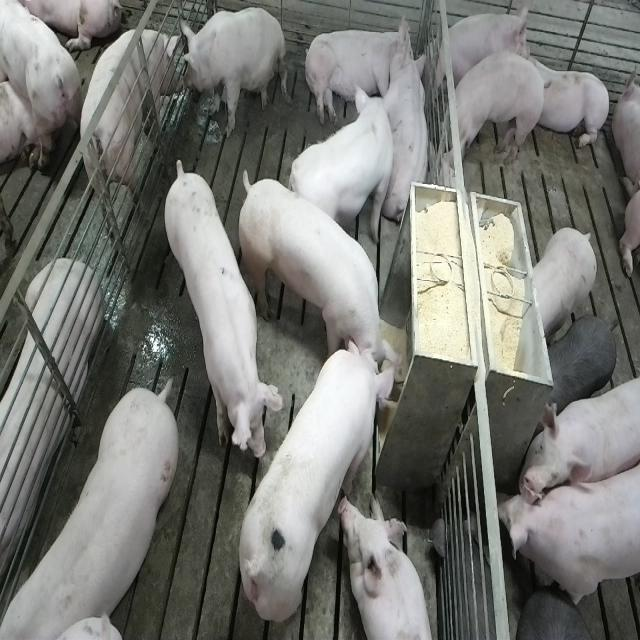Feeding: (237, 340, 402, 626), (236, 165, 404, 385)
Lateral_lying: (302, 12, 419, 130)
Sitting: (182, 4, 288, 138)
Standing: (0, 377, 178, 640), (164, 152, 286, 464), (77, 23, 182, 234), (501, 458, 640, 606), (289, 84, 402, 246), (521, 374, 640, 506), (0, 0, 80, 170), (440, 50, 549, 172), (540, 312, 620, 434), (529, 226, 597, 343)
Sternal_lying: (0, 257, 104, 566), (337, 493, 433, 640), (422, 11, 544, 106), (524, 39, 610, 154), (380, 45, 430, 228)
